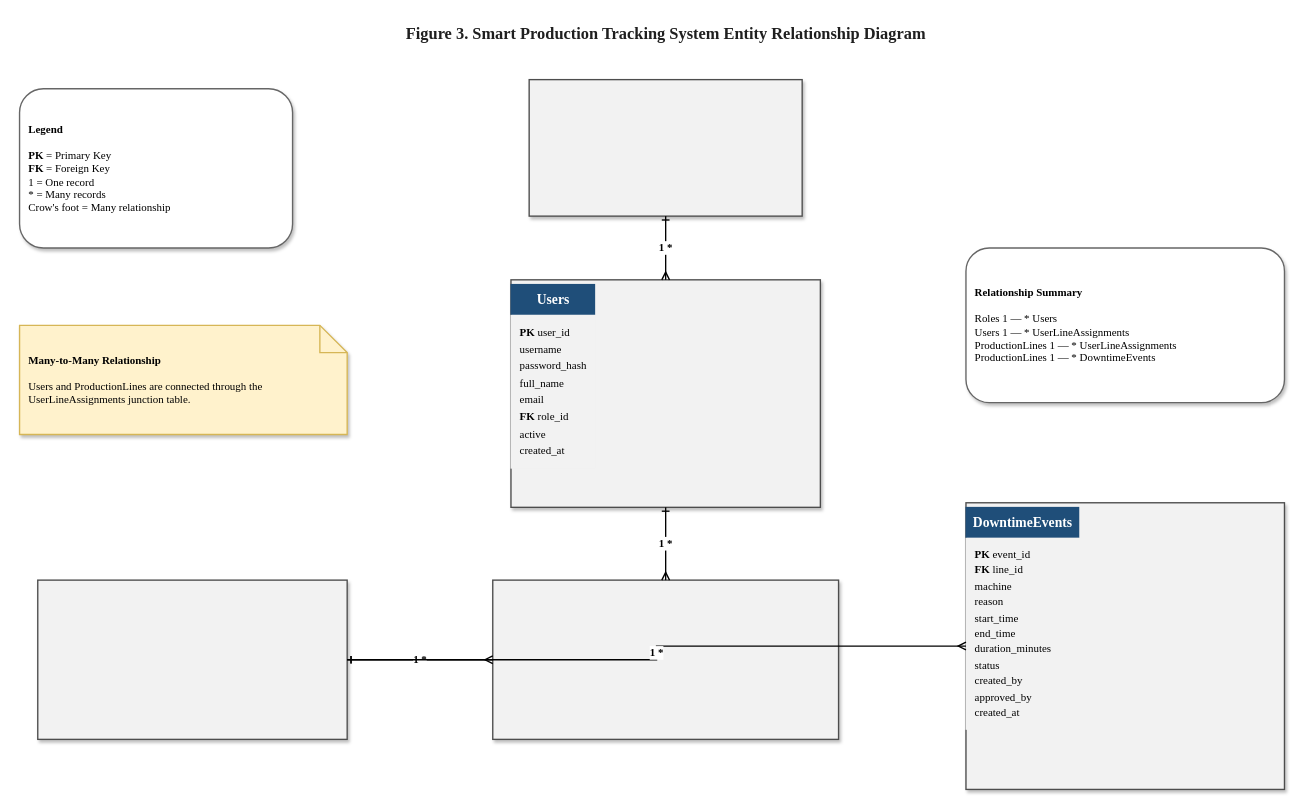
The diagram is 1307 pixels wide and 812 high, and some of its shapes have lost their labels. Here are the shapes that lost their labels. From the top down, the centre of each, then its label:
the point at 666,149: Roles PK role_id role_name description
the point at 193,660: ProductionLines PK line_id line_name description status
the point at 666,660: UserLineAssignments PK assignment_id FK user_id FK line_id assigned_at
